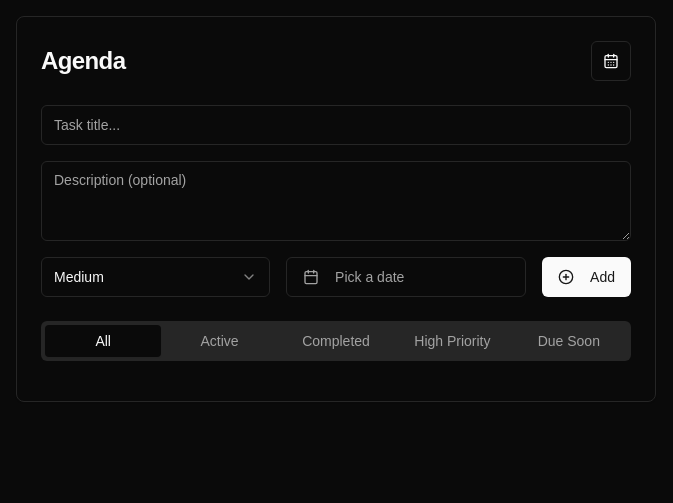
Test case: AgendaPage › Task Management › deletes a task
# Add a task
Type "Task to Delete" into the field with placeholder "Task title..." at (336, 125), box [41,105,631,145]
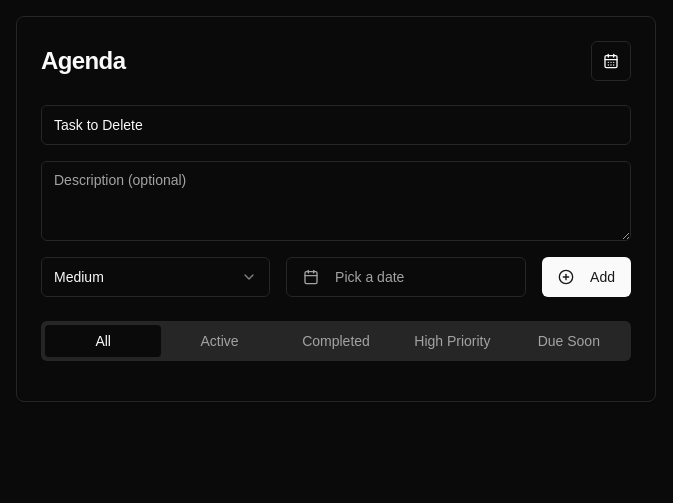
Click the button "Add" at (587, 277), box [542,257,631,297]
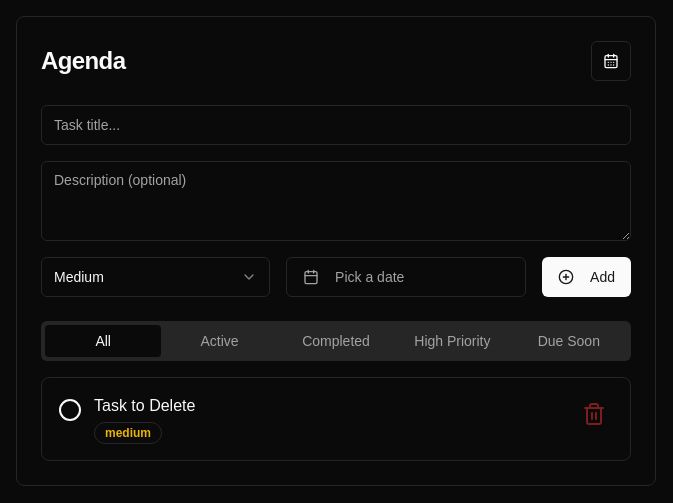
Click the button named "delete task" at (594, 414), box [574,394,614,434]
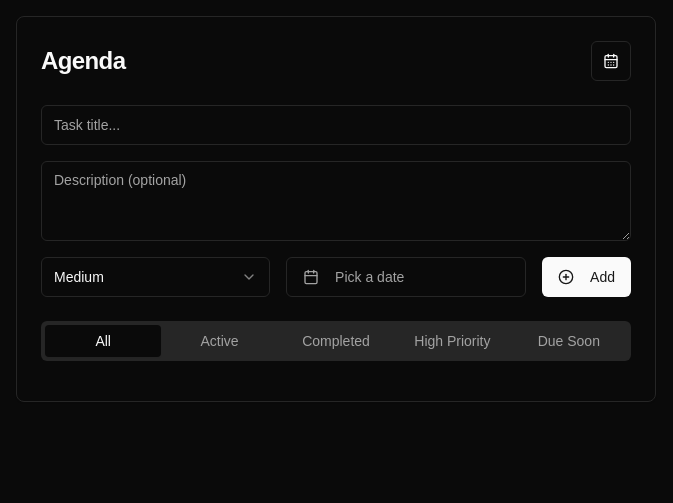
expect the text "Task to Delete" is gone: met
